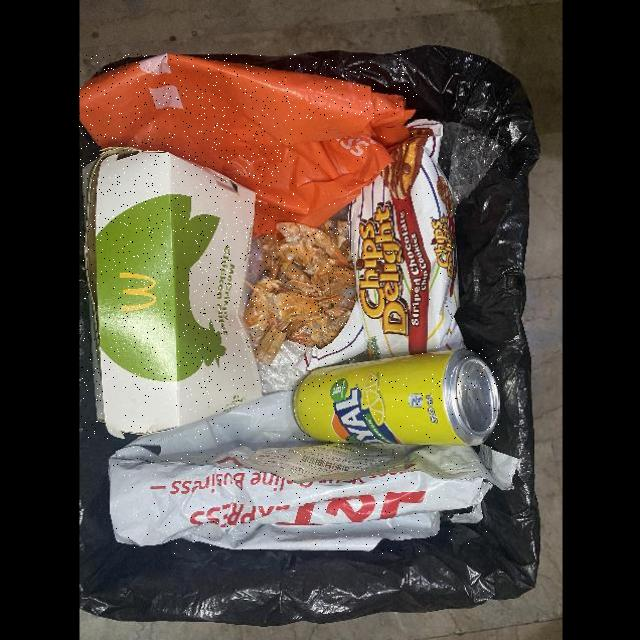biowaste: (243, 222, 356, 367)
metal: (292, 350, 499, 448)
paper: (81, 148, 263, 440)
plastic: (108, 390, 490, 554), (80, 55, 417, 238)
wrapper: (295, 119, 465, 373)
